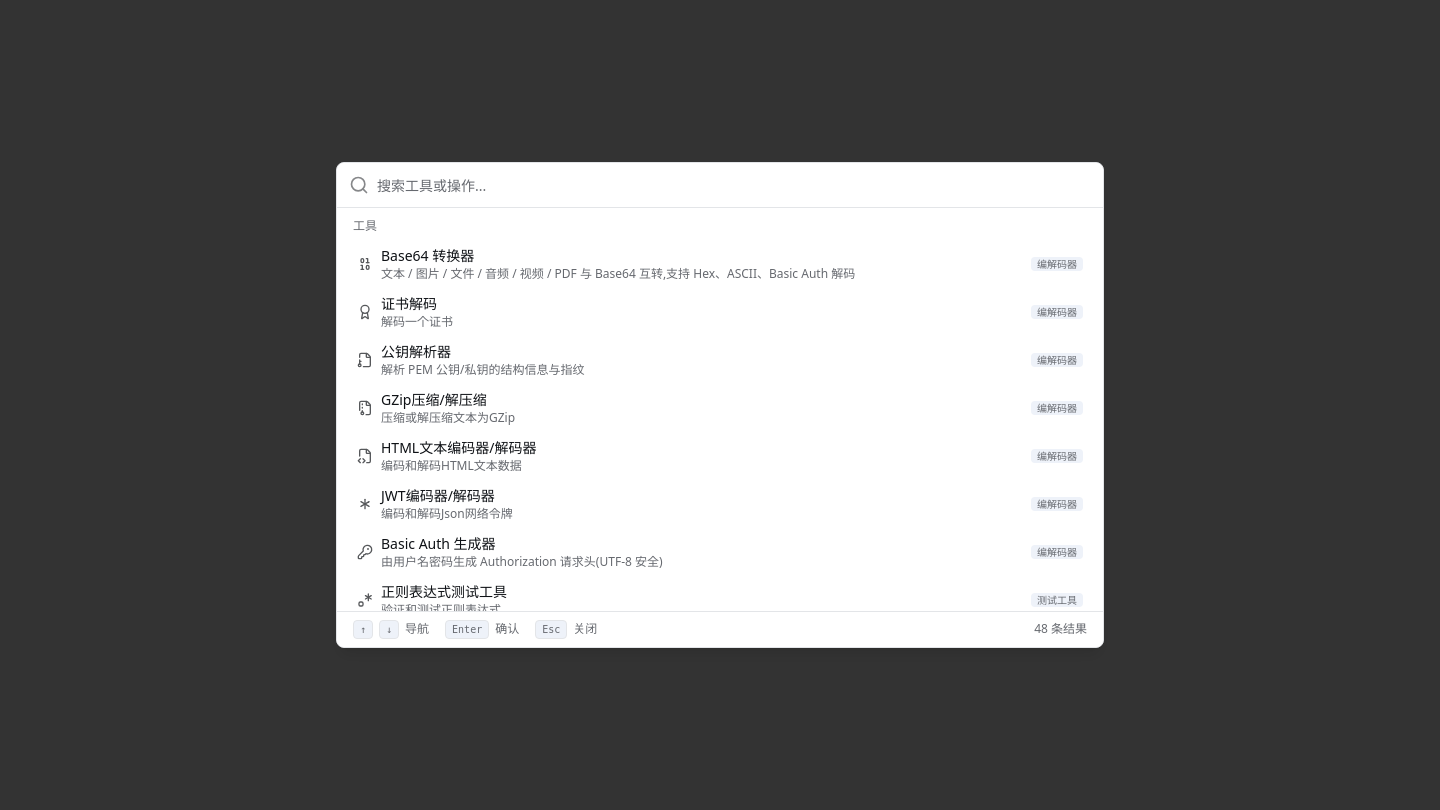
Test: CommandPalette › 缩写子序列命中:jsf 搜出 JSON 格式化器(fuzzy 升级主路径)
Type "jsf" into the dropdown.
click(734, 185); type("jsf")  # box [377, 163, 1091, 207]
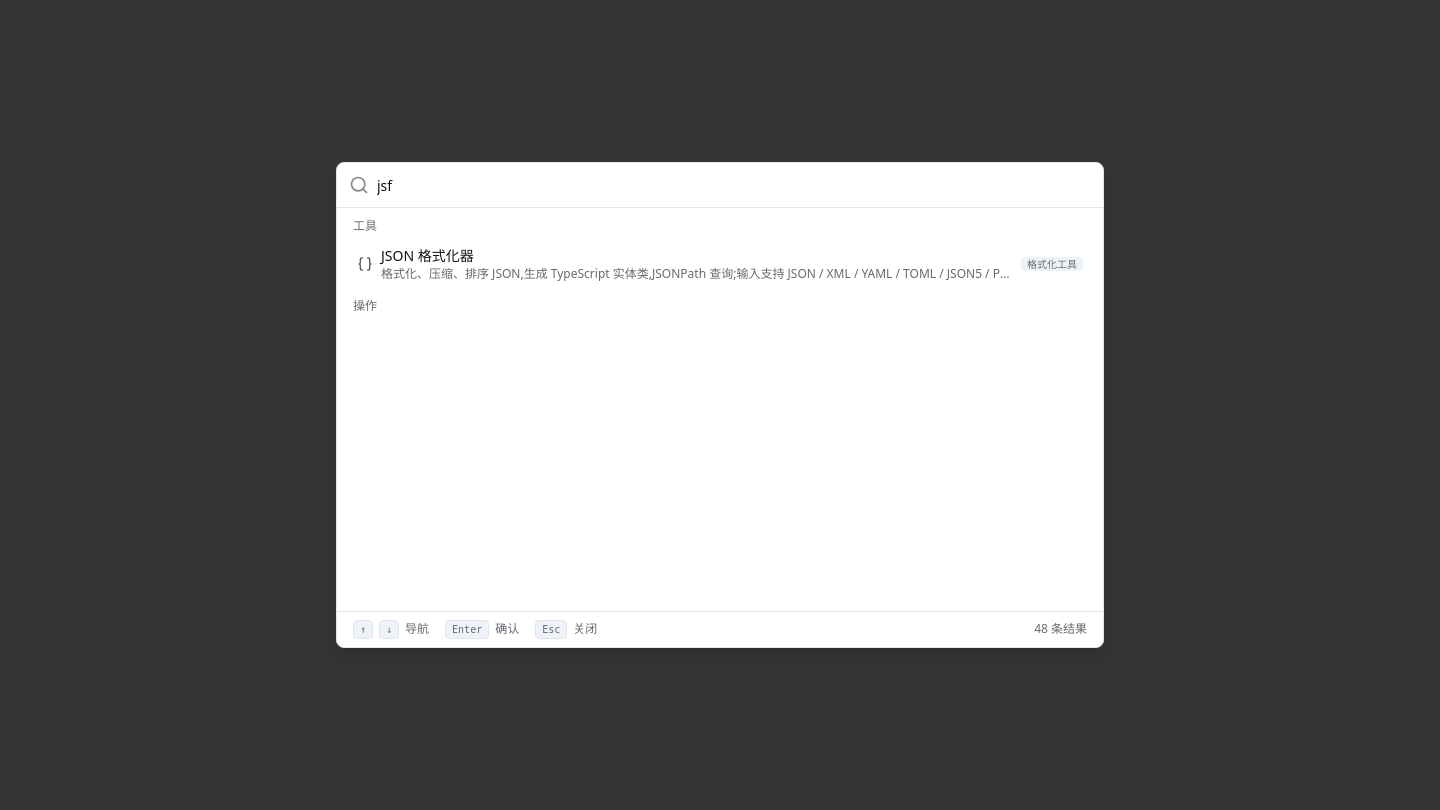
Now the option "JSON 格式化器" is shown, box [345, 240, 1095, 288]
